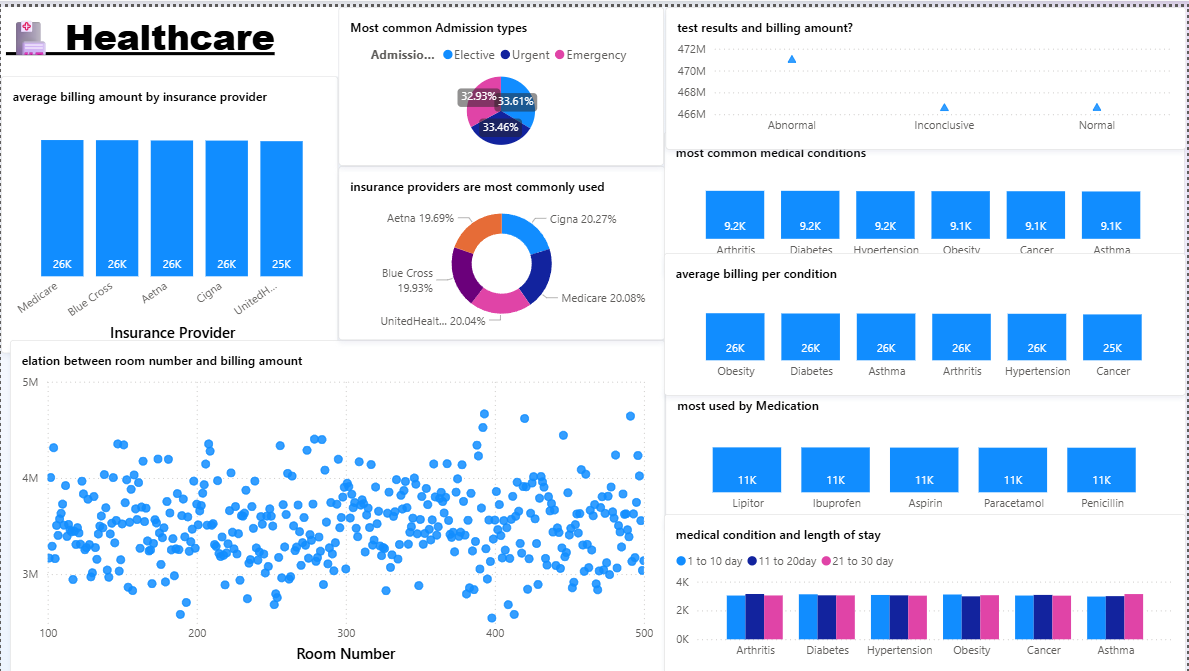

The page's visual inventory and layout, read from the dashboard file:
{"tool":"powerbi","page":{"name":" Billing & Insurance","canvas":[1280,720],"ordinal":1},"visuals":[{"type":"columnChart","title":"average billing amount by insurance provider","fields":{"Category":["healthcare_dataset.Insurance Provider"],"Y":["Avg(healthcare_dataset.Billing Amount)"]},"box":[0,74.5,364.3,299.6],"z":0},{"type":"scatterChart","title":"elation between room number and billing amount","fields":{"X":["healthcare_dataset.Room Number"],"Y":["Sum(healthcare_dataset.Billing Amount)"]},"box":[9.7,359.5,707.6,361.1],"z":1000},{"type":"donutChart","title":"insurance providers are most commonly used","fields":{"Y":["CountNonNull(healthcare_dataset.Name)"],"Category":["healthcare_dataset.Insurance Provider"]},"box":[364.3,171.6,353,187.8],"z":2000},{"type":"columnChart","title":"most common medical conditions","fields":{"Category":["healthcare_dataset.Medical Condition"],"Y":["CountNonNull(healthcare_dataset.Name)"]},"box":[715.7,134.4,561.9,153.8],"z":3000},{"type":"columnChart","title":"most used by Medication","fields":{"Category":["healthcare_dataset.Medication"],"Y":["CountNonNull(healthcare_dataset.Name)"]},"box":[717.3,408,561.9,153.8],"z":4000},{"type":"columnChart","title":"average billing per condition","fields":{"Category":["healthcare_dataset.Medical Condition"],"Y":["Avg(healthcare_dataset.Billing Amount)"]},"box":[715.7,265.6,563.5,153.8],"z":5000},{"type":"clusteredColumnChart","title":"medical condition and length of stay","fields":{"Y":["CountNonNull(healthcare_dataset.Name)"],"Category":["healthcare_dataset.Medical Condition"],"Series":["healthcare_dataset.LengthOfStay (groups)"]},"box":[715.7,547.3,563.5,173.3],"z":6000},{"type":"scatterChart","title":" test results and billing amount?","fields":{"X":["healthcare_dataset.Test Results"],"Y":["Sum(healthcare_dataset.Billing Amount)"]},"box":[717.3,0,561.9,153.8],"z":7000},{"type":"pieChart","title":"Most common Admission types","fields":{"Y":["CountNonNull(healthcare_dataset.Name)"],"Category":["healthcare_dataset.Admission Type"]},"box":[364.3,0,351.4,171.6],"z":8000},{"type":"textbox","box":[0,0,363.7,74.7],"z":9000}]}

Visuals, with their boxes in screenshot pixels (x1, y1, x2, y2), scaled from the page's 1280x720 canvas onto the 1189x671 screenshot:
"average billing amount by insurance provider" columnChart: bbox=(0, 69, 338, 349)
"elation between room number and billing amount" scatterChart: bbox=(9, 335, 666, 670)
"insurance providers are most commonly used" donutChart: bbox=(338, 160, 666, 335)
"most common medical conditions" columnChart: bbox=(665, 125, 1187, 269)
"most used by Medication" columnChart: bbox=(666, 380, 1188, 524)
"average billing per condition" columnChart: bbox=(665, 248, 1188, 391)
"medical condition and length of stay" clusteredColumnChart: bbox=(665, 510, 1188, 670)
" test results and billing amount?" scatterChart: bbox=(666, 0, 1188, 143)
"Most common Admission types" pieChart: bbox=(338, 0, 665, 160)
textbox: bbox=(0, 0, 338, 70)
